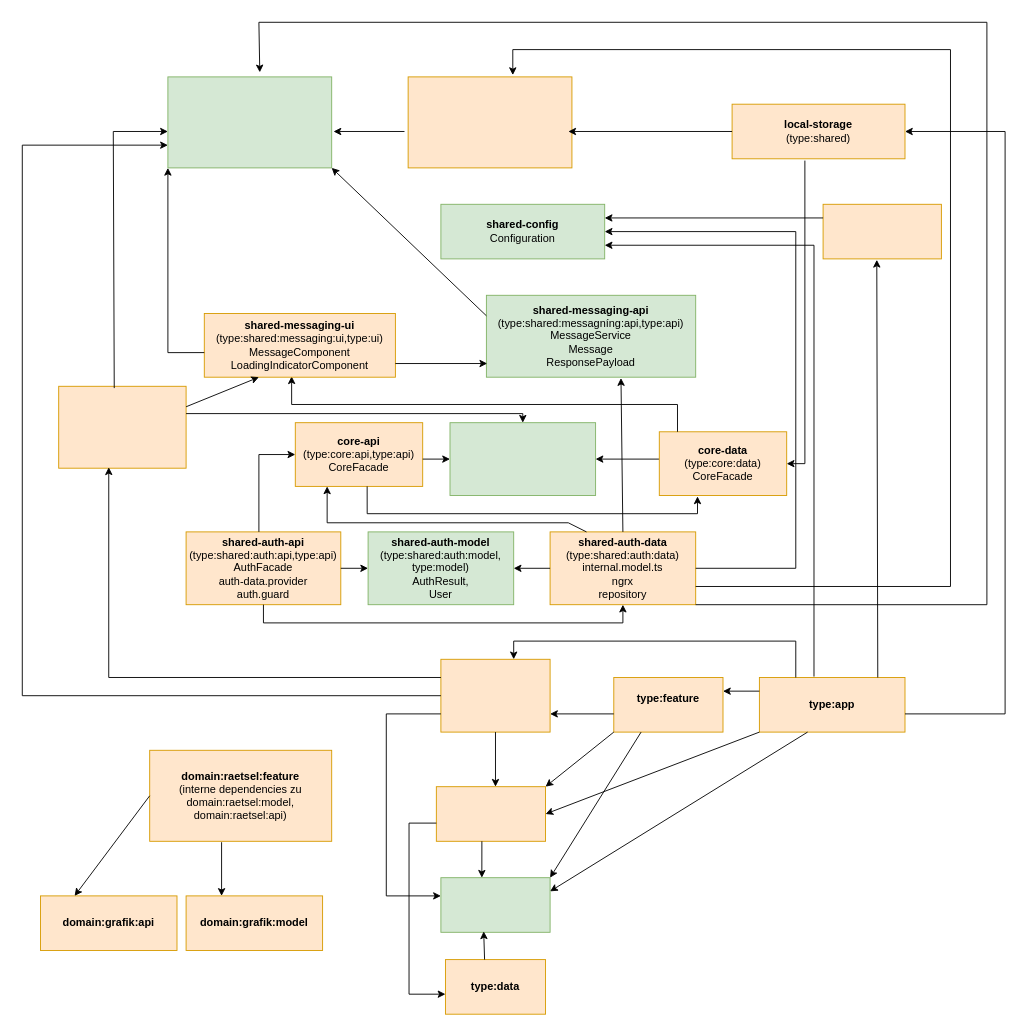
Image size: 1028x1030. Some labels were removed from this diagram. The box of each missing label's shape, as (x1, y1, x2, y2) in pixels:
core-model (type:core:model,type:model) DescriptorUI, QuelleUI: (449, 422, 596, 495)
shared-http interceptors: (822, 203, 941, 259)
shared-ngrx-utils filter-defined noop-action safe-concat-map ...: (407, 76, 572, 168)
shared-util assert-defined is-defined safe-assign scroll-service: (167, 76, 332, 168)
type:api: (435, 786, 546, 841)
type:model: (440, 877, 550, 932)
type:shared:ui: (58, 385, 186, 468)
type:ui: (440, 658, 550, 732)
